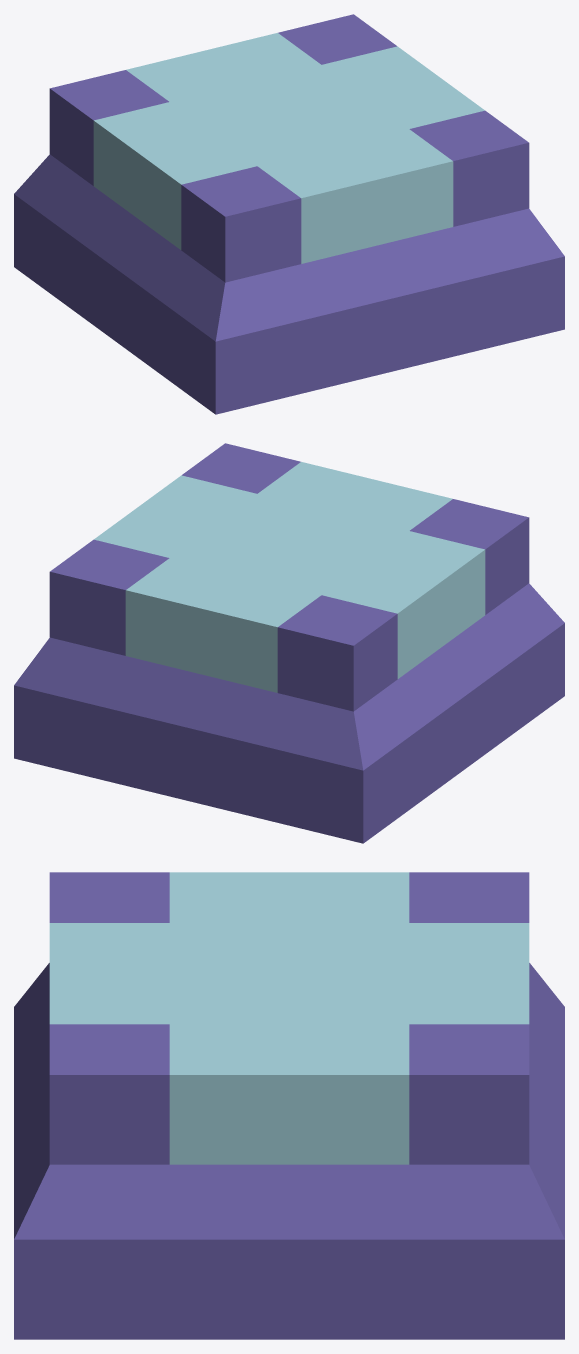
The model's file is towerSquare_bottomC.dae.
3 views of the same model, one above another, from view 1: azimuth 30°, elevation 25°; view 2: azimuth 150°, elevation 25°; view 3: azimuth 270°, elevation 25° (orthographic). The views are drawn at different scales.
Visible parts, largest first — view 1: towerSquare_bottomC; view 2: towerSquare_bottomC; view 3: towerSquare_bottomC.
Boxes of the visible parts, left/top/right/bottom form: towerSquare_bottomC: left=14, top=14, right=564, bottom=414; towerSquare_bottomC: left=14, top=443, right=564, bottom=843; towerSquare_bottomC: left=14, top=872, right=564, bottom=1339.
Size of the model in its own units: 1 by 0.5 by 1.
